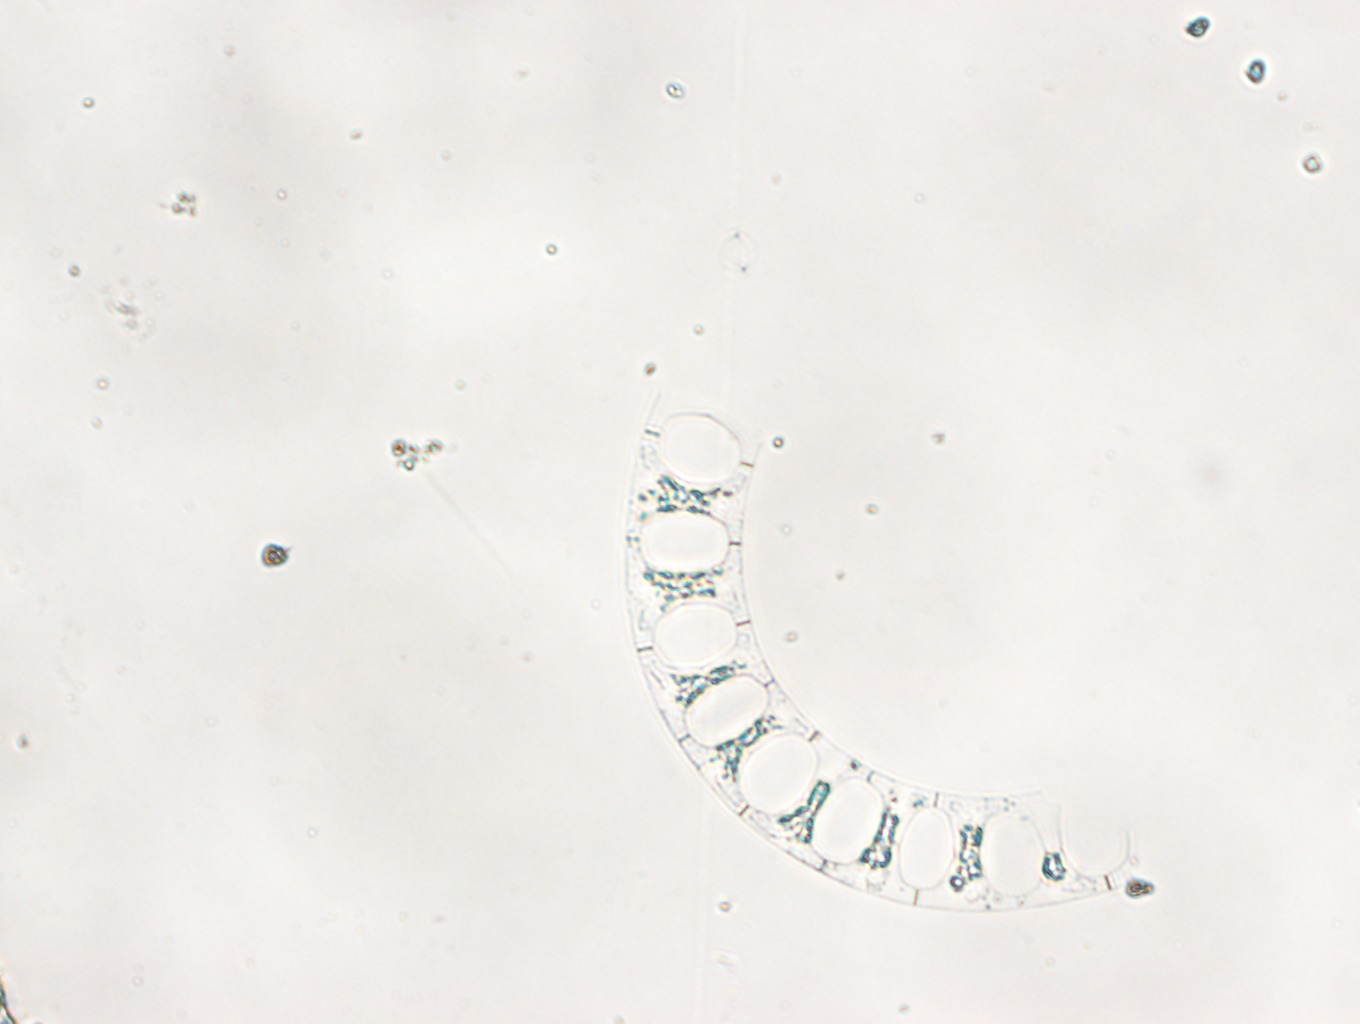eucampia: (626, 386, 1151, 910)
